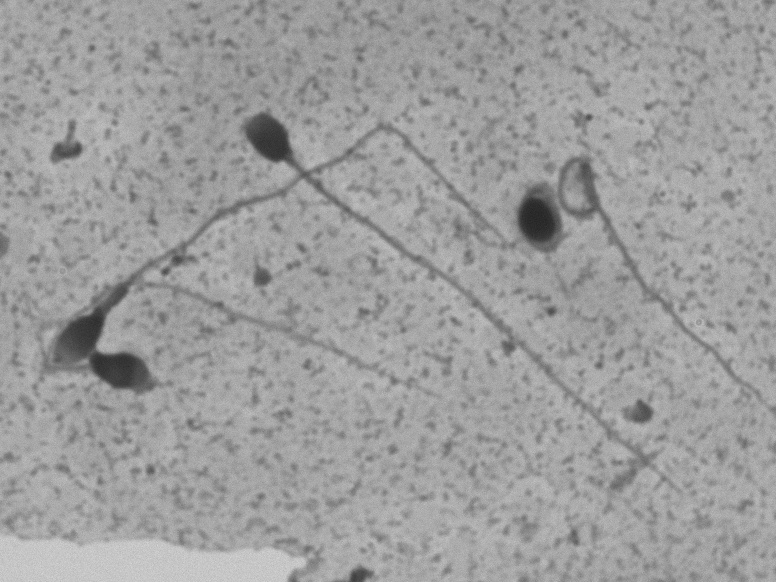Abnormal: (503, 160, 566, 271)
Normal: (228, 104, 704, 507)
